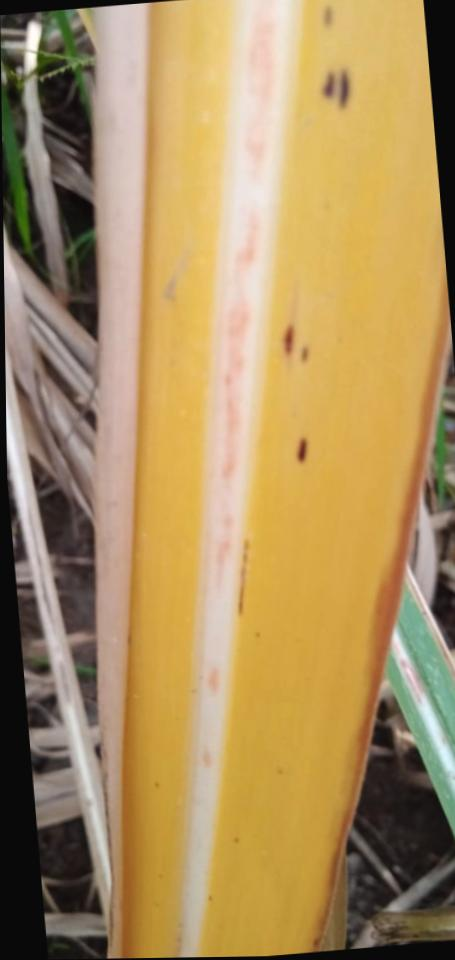RedRot: (214, 200, 263, 597), (245, 3, 278, 187), (206, 666, 217, 699), (196, 745, 209, 772)
Rust: (236, 539, 250, 616), (336, 67, 351, 109), (318, 69, 336, 98), (281, 323, 294, 355), (318, 6, 335, 29), (295, 435, 308, 465), (298, 345, 309, 363), (274, 765, 284, 776), (207, 893, 213, 902), (233, 837, 239, 844), (153, 781, 158, 788), (254, 631, 259, 637)
Yellow: (111, 0, 444, 959)
